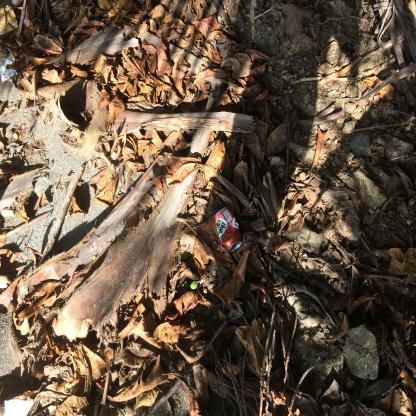Drink can: (213, 207, 242, 252)
